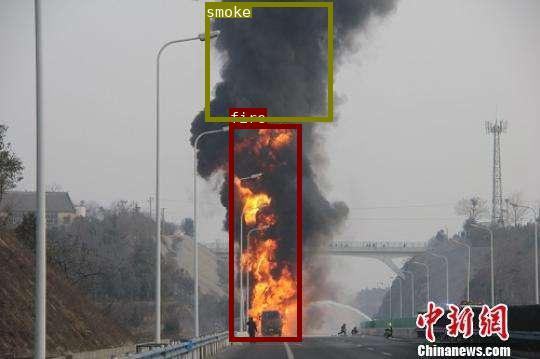fire: (229, 124, 301, 340)
smoke: (204, 2, 331, 120)
